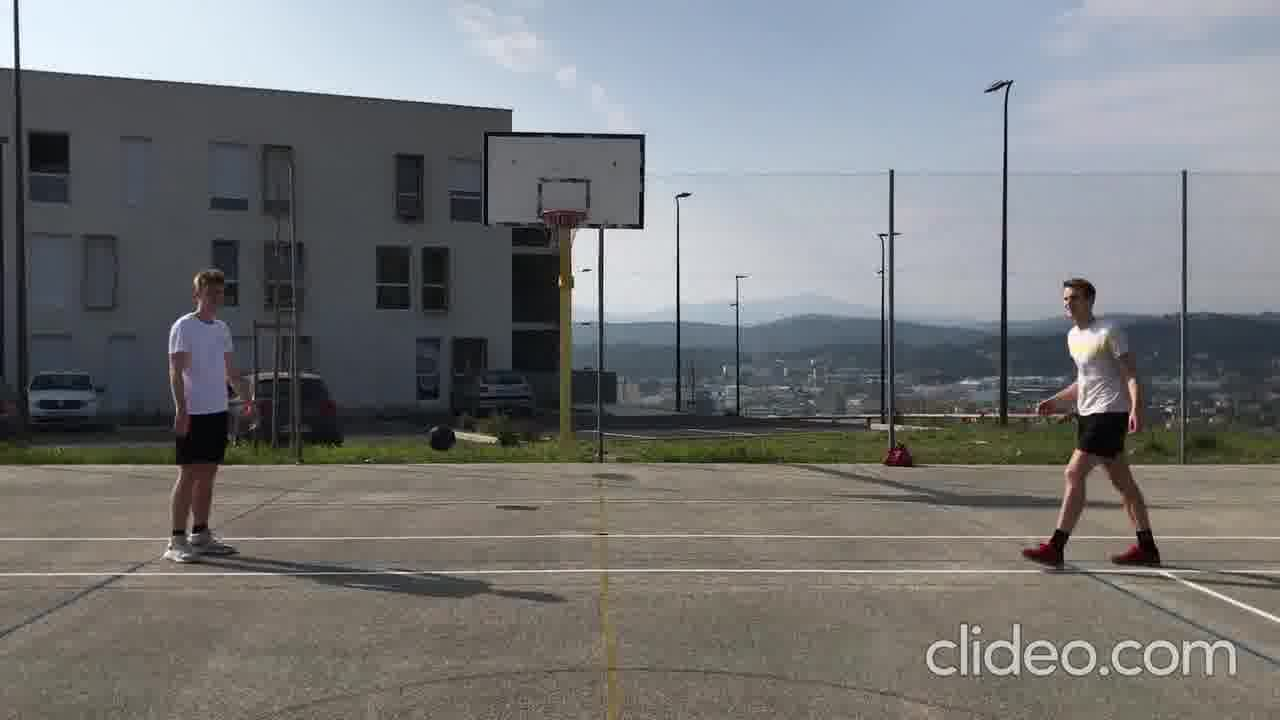jugador: (1010, 270, 1175, 577)
